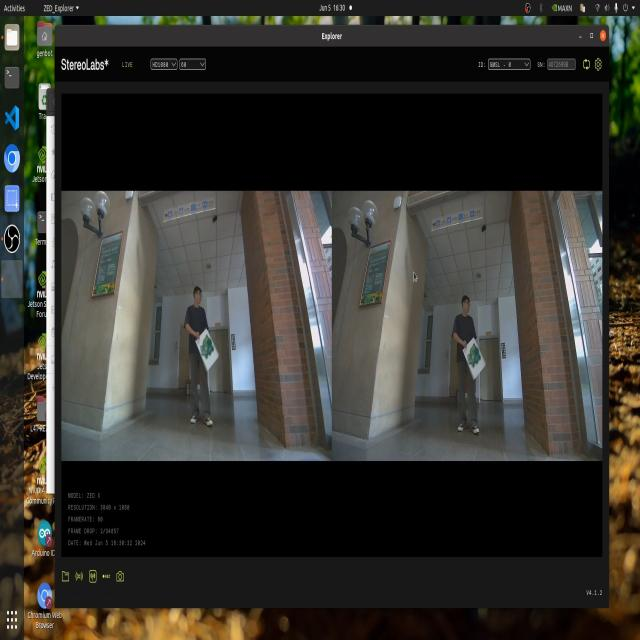green: (464, 344, 485, 376), (201, 341, 217, 372)
